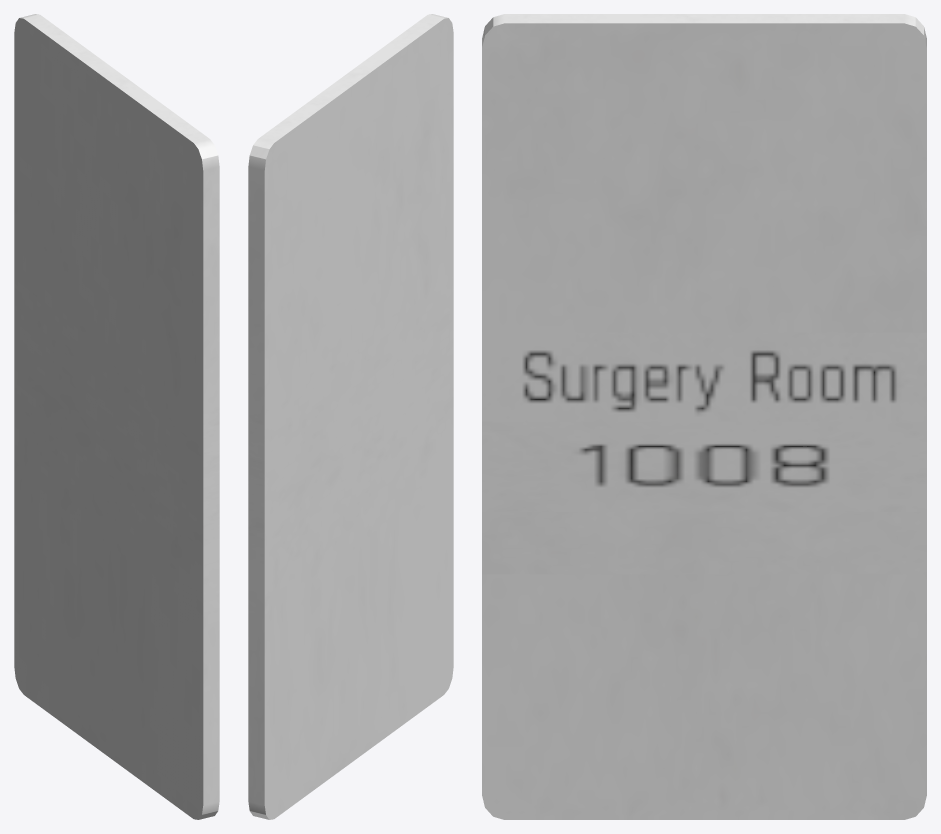
The model's file is Surgery Room Sign.fbx.
3 views of the same model, side by side, from view 1: azimuth 30°, elevation 25°; view 2: azimuth 150°, elevation 25°; view 3: azimuth 270°, elevation 25° (orthographic). The views are drawn at different scales.
Visible parts, largest first — view 1: pCube37; view 2: pCube37; view 3: pCube37.
Boxes of the visible parts, box(x1,y1,x2,y2) form: pCube37: box(14, 14, 219, 819); pCube37: box(248, 14, 453, 819); pCube37: box(482, 14, 926, 819).
Size of the model in its own units: 0.0309 by 1.22 by 0.6162.
Materials: 1 (1 with a texture image).
